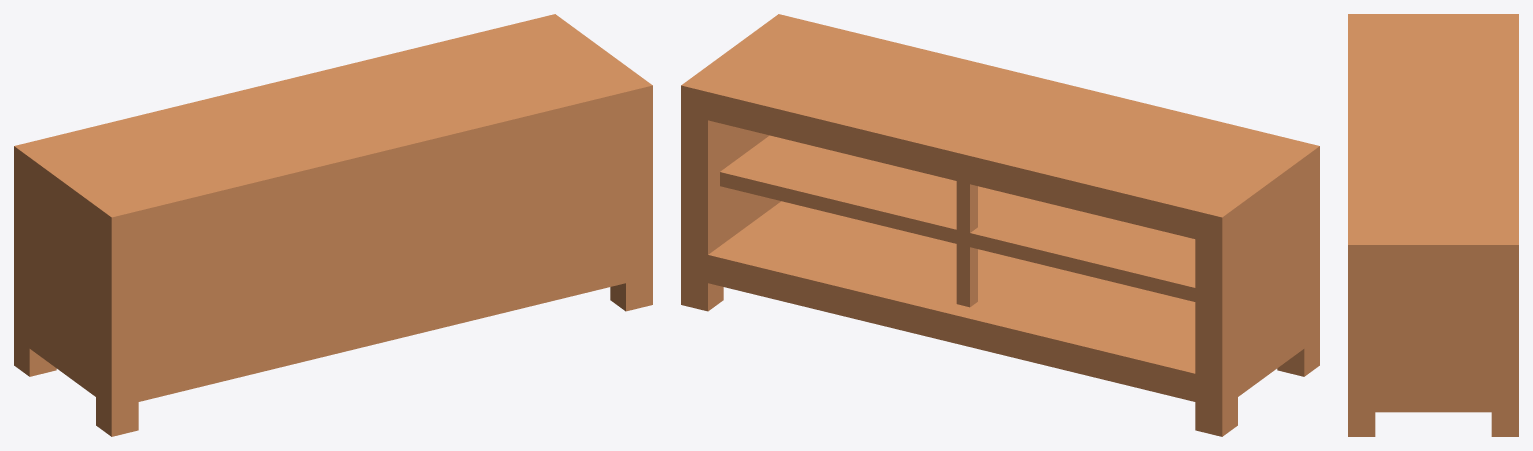
Rendered from Tech_Cabinet_Television.glb.
The picture shows the model from 3 angles, left to right: view 1: azimuth 30°, elevation 25°; view 2: azimuth 150°, elevation 25°; view 3: azimuth 270°, elevation 25°; orthographic projection. The views are drawn at different scales.
Parts seen in each view (by area): view 1: cabinetTelevision; view 2: cabinetTelevision; view 3: cabinetTelevision.
Boxes of the visible parts, x1=… form: cabinetTelevision: x1=14, y1=14, x2=652, y2=436; cabinetTelevision: x1=681, y1=14, x2=1319, y2=436; cabinetTelevision: x1=1348, y1=14, x2=1518, y2=436.
Size of the model in its own units: 0.8 by 0.31 by 0.25.
